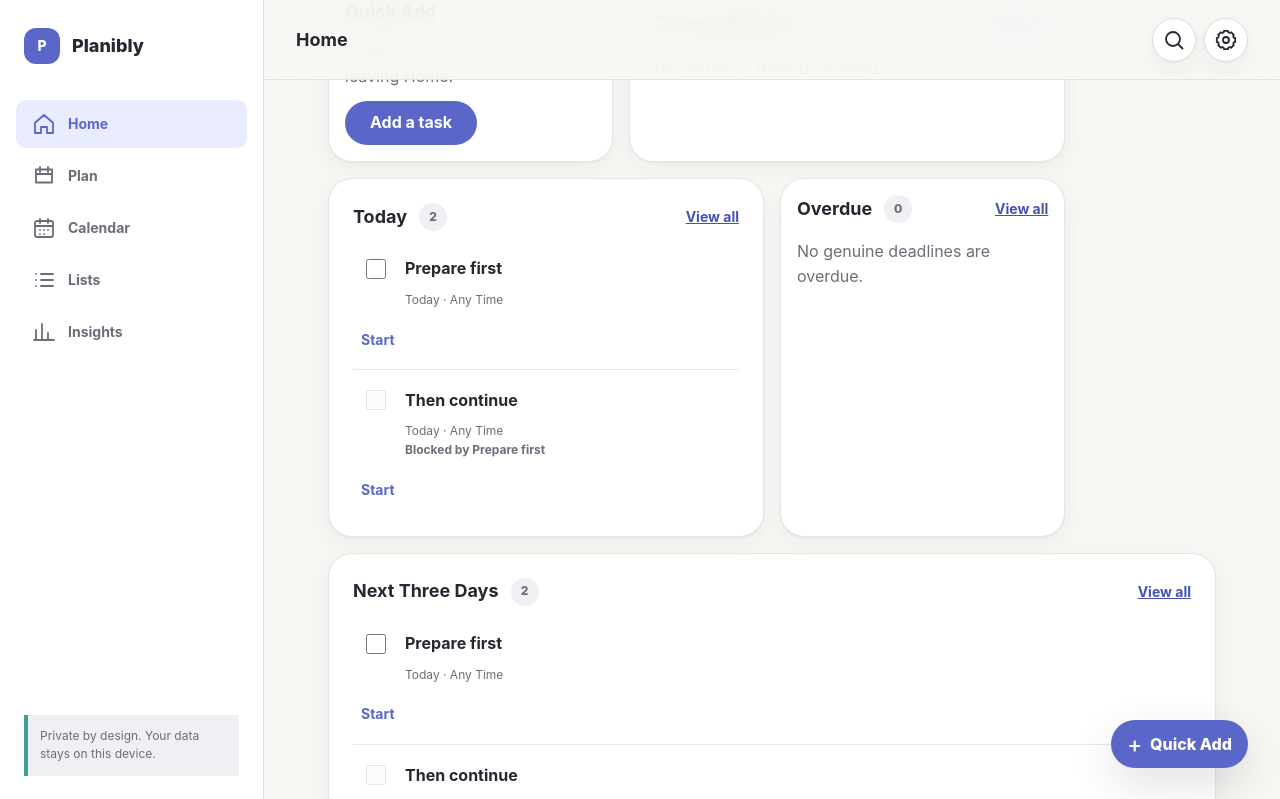
Test case: Phase 2B Home dashboard › renders live task data, explains blocking, and opens the existing editor
The image size is (1280, 799).
(page scrolled)
Check: the text "Blocked by Prepare first" is shown, box [405,442,545,457]
Check: the 2nd checkbox named "Complete Then continue" is disabled, box [366,390,386,410]
Click the 1st button "Then continue" at (461,400), box [405,378,739,422]
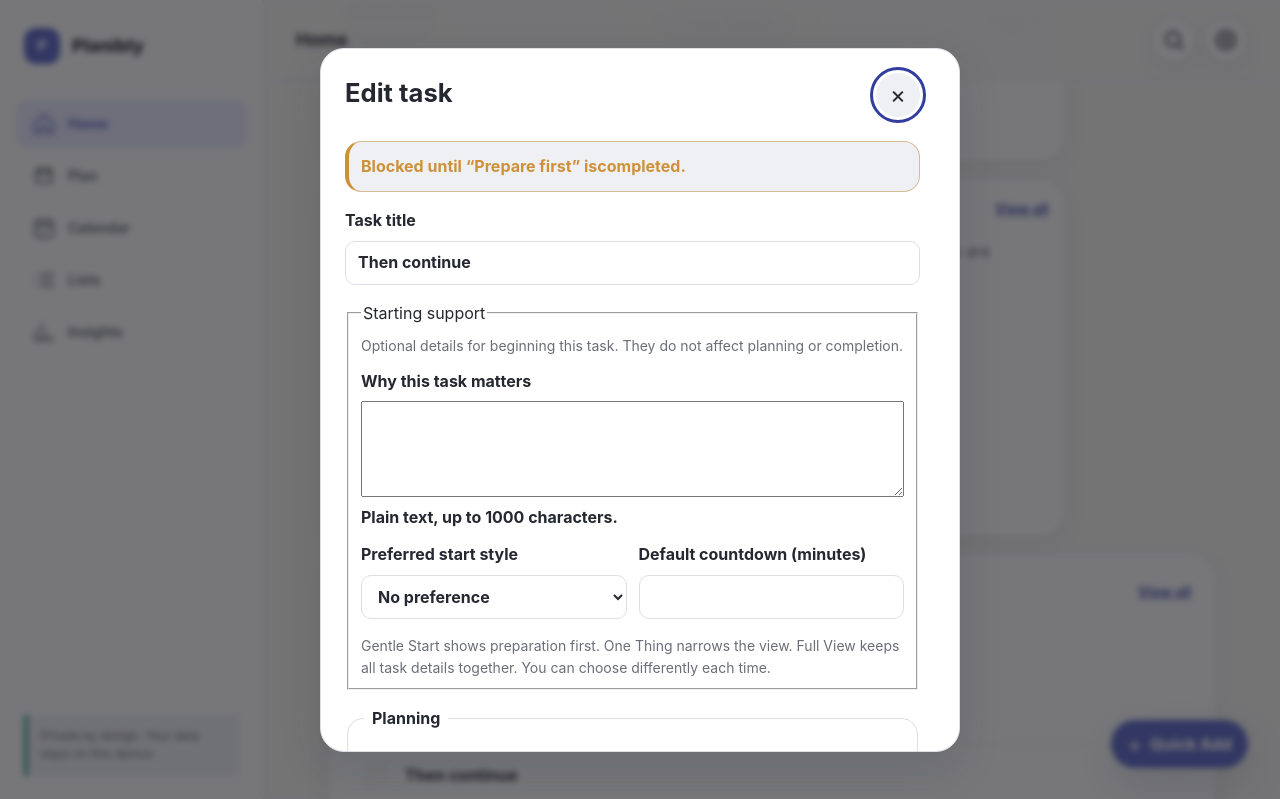
Check: the dialog "Edit task" is shown, box [320,48,960,752]
